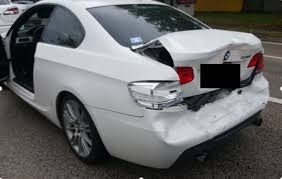Smashed: (134, 29, 270, 166)
